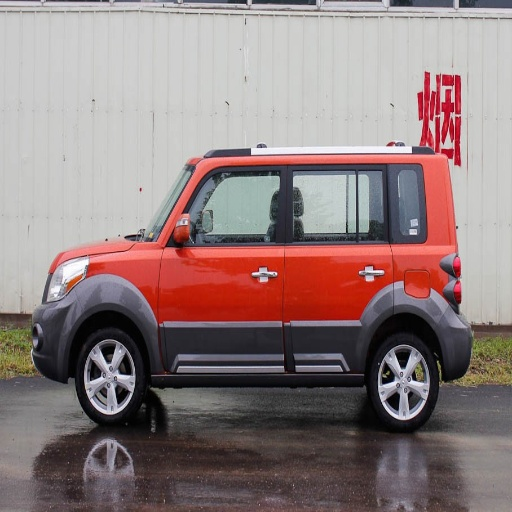back_left_door: (288, 162, 392, 370)
front_left_door: (161, 163, 287, 364)
